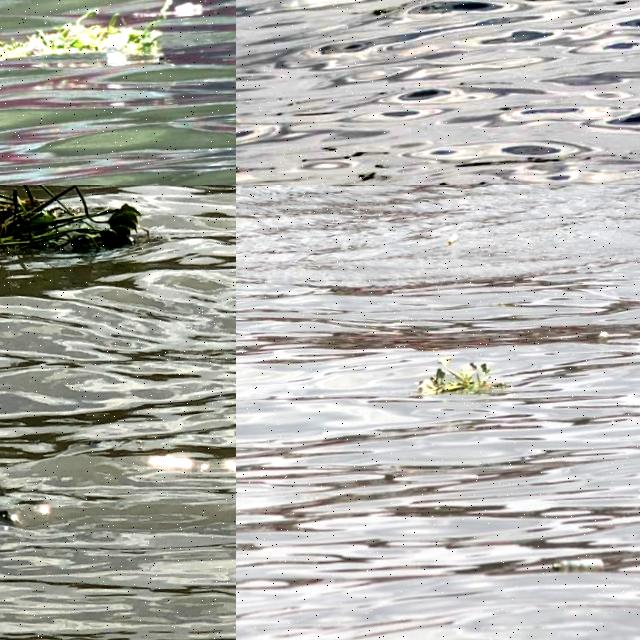water-hyacinth: (1, 10, 237, 89), (1, 186, 151, 279), (1, 465, 74, 540), (420, 353, 498, 395)
